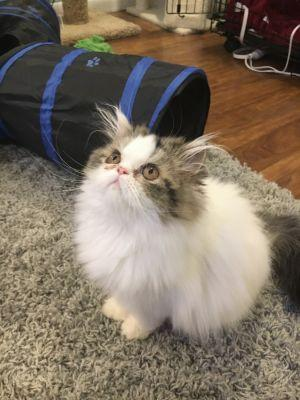persian: (60, 99, 211, 238)
